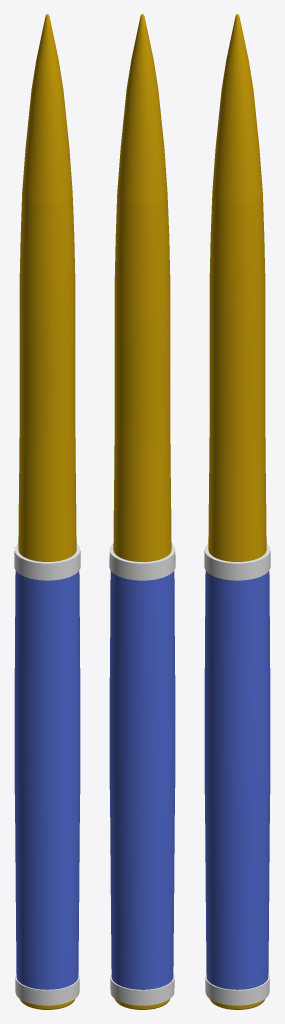
The model's file is Stick.fbx.
The picture shows the model from 3 angles, left to right: view 1: azimuth 90°, elevation 25°; view 2: azimuth 150°, elevation 25°; view 3: azimuth 270°, elevation 25°; orthographic projection.
Parts seen in each view (by area): view 1: Head, Body; view 2: Head, Body; view 3: Head, Body.
Boxes of the visible parts, box(x1,y1,x2,y2) form: Head: box(14, 193, 80, 1009); Body: box(22, 14, 72, 203); Head: box(109, 192, 175, 1009); Body: box(117, 14, 167, 203); Head: box(204, 193, 270, 1009); Body: box(212, 14, 262, 203).
Size of the model in its own units: 1.6 by 26.18 by 1.6.
